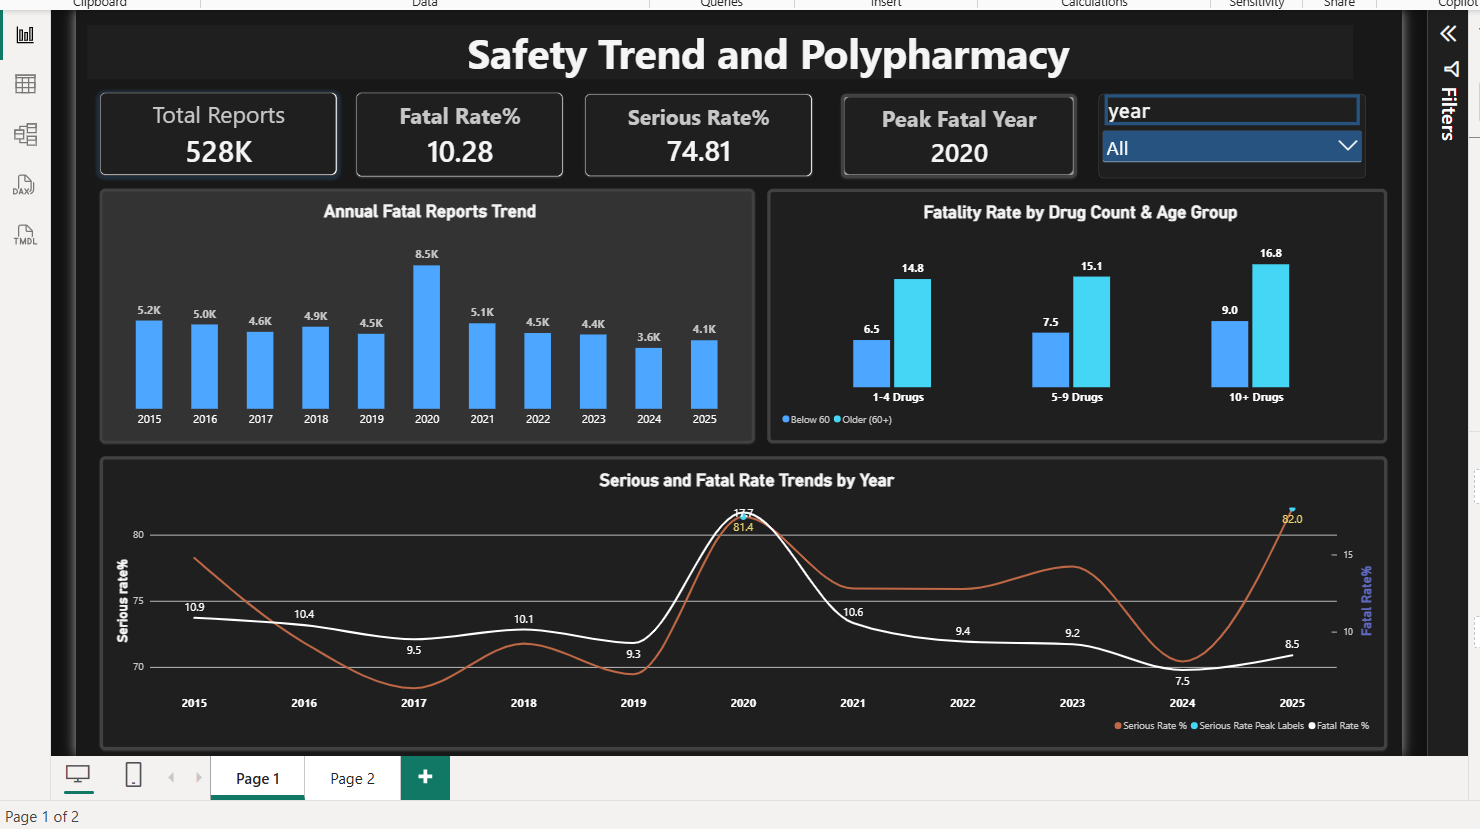

The page's visual inventory and layout, read from the dashboard file:
{"tool":"powerbi","page":{"name":"Page 1","canvas":[1920,1080],"ordinal":0},"visuals":[{"type":"cardVisual","fields":{"Data":["Sum(Yearly_Trends.total_reports)"]},"box":[34.9,118.6,343.6,120.3],"z":0},{"type":"cardVisual","fields":{"Data":["Yearly_Trends.Overall Fatal Rate %"]},"box":[404.7,118.6,300,122.1],"z":1},{"type":"cardVisual","fields":{"Data":["Yearly_Trends.Overall Serious Rate %"]},"box":[736,120.3,329.7,120.3],"z":2},{"type":"cardVisual","fields":{"Data":["Yearly_Trends.Peak Fatal Year"]},"box":[1107.6,120.3,341.9,122.1],"z":3},{"type":"lineChart","title":"\tSerious and Fatal Rate Trends by Year","fields":{"Category":["Yearly_Trends.year"],"Y":["Yearly_Trends.Overall Serious Rate %","Country_Analysis.Serious Rate Peak Labels"],"Y2":["Yearly_Trends.Overall Fatal Rate %"]},"box":[34.4,646,1864,425.3],"z":4},{"type":"clusteredColumnChart","title":"\tAnnual  Fatal Reports Trend","fields":{"Category":["Yearly_Trends.year"],"Y":["Avg(Yearly_Trends.fatal_reports)"]},"box":[34.4,258.8,948.3,369.2],"z":5},{"type":"clusteredColumnChart","title":"Fatality Rate by Drug Count & Age Group","fields":{"Category":["Polypharmacy.drug_bucket"],"Series":["Polypharmacy.age_bucket"],"Y":["Avg(Polypharmacy.fatal_rate_pct)"]},"box":[1000.7,258.8,897.6,369.2],"z":6},{"type":"textbox","box":[15.7,20.9,1833.1,78.5],"z":7},{"type":"slicer","fields":{"Values":["Yearly_Trends.year"]},"box":[1480.8,120.3,387.2,122.1],"z":8}]}

Visuals, with their boxes on the page's 1920x1080 design canvas (x1, y1, x2, y2). These are canvas units, not pixel positions in the 1480x829 screenshot, which may show the page scaled, cropped or inside an application window:
cardVisual - Sum(Yearly_Trends.total_reports): crop(35, 119, 378, 239)
cardVisual - Yearly_Trends.Overall Fatal Rate %: crop(405, 119, 705, 241)
cardVisual - Yearly_Trends.Overall Serious Rate %: crop(736, 120, 1066, 241)
cardVisual - Yearly_Trends.Peak Fatal Year: crop(1108, 120, 1450, 242)
"	Serious and Fatal Rate Trends by Year" lineChart: crop(34, 646, 1898, 1071)
"	Annual  Fatal Reports Trend" clusteredColumnChart: crop(34, 259, 983, 628)
"Fatality Rate by Drug Count & Age Group" clusteredColumnChart: crop(1001, 259, 1898, 628)
textbox: crop(16, 21, 1849, 99)
slicer - Yearly_Trends.year: crop(1481, 120, 1868, 242)
